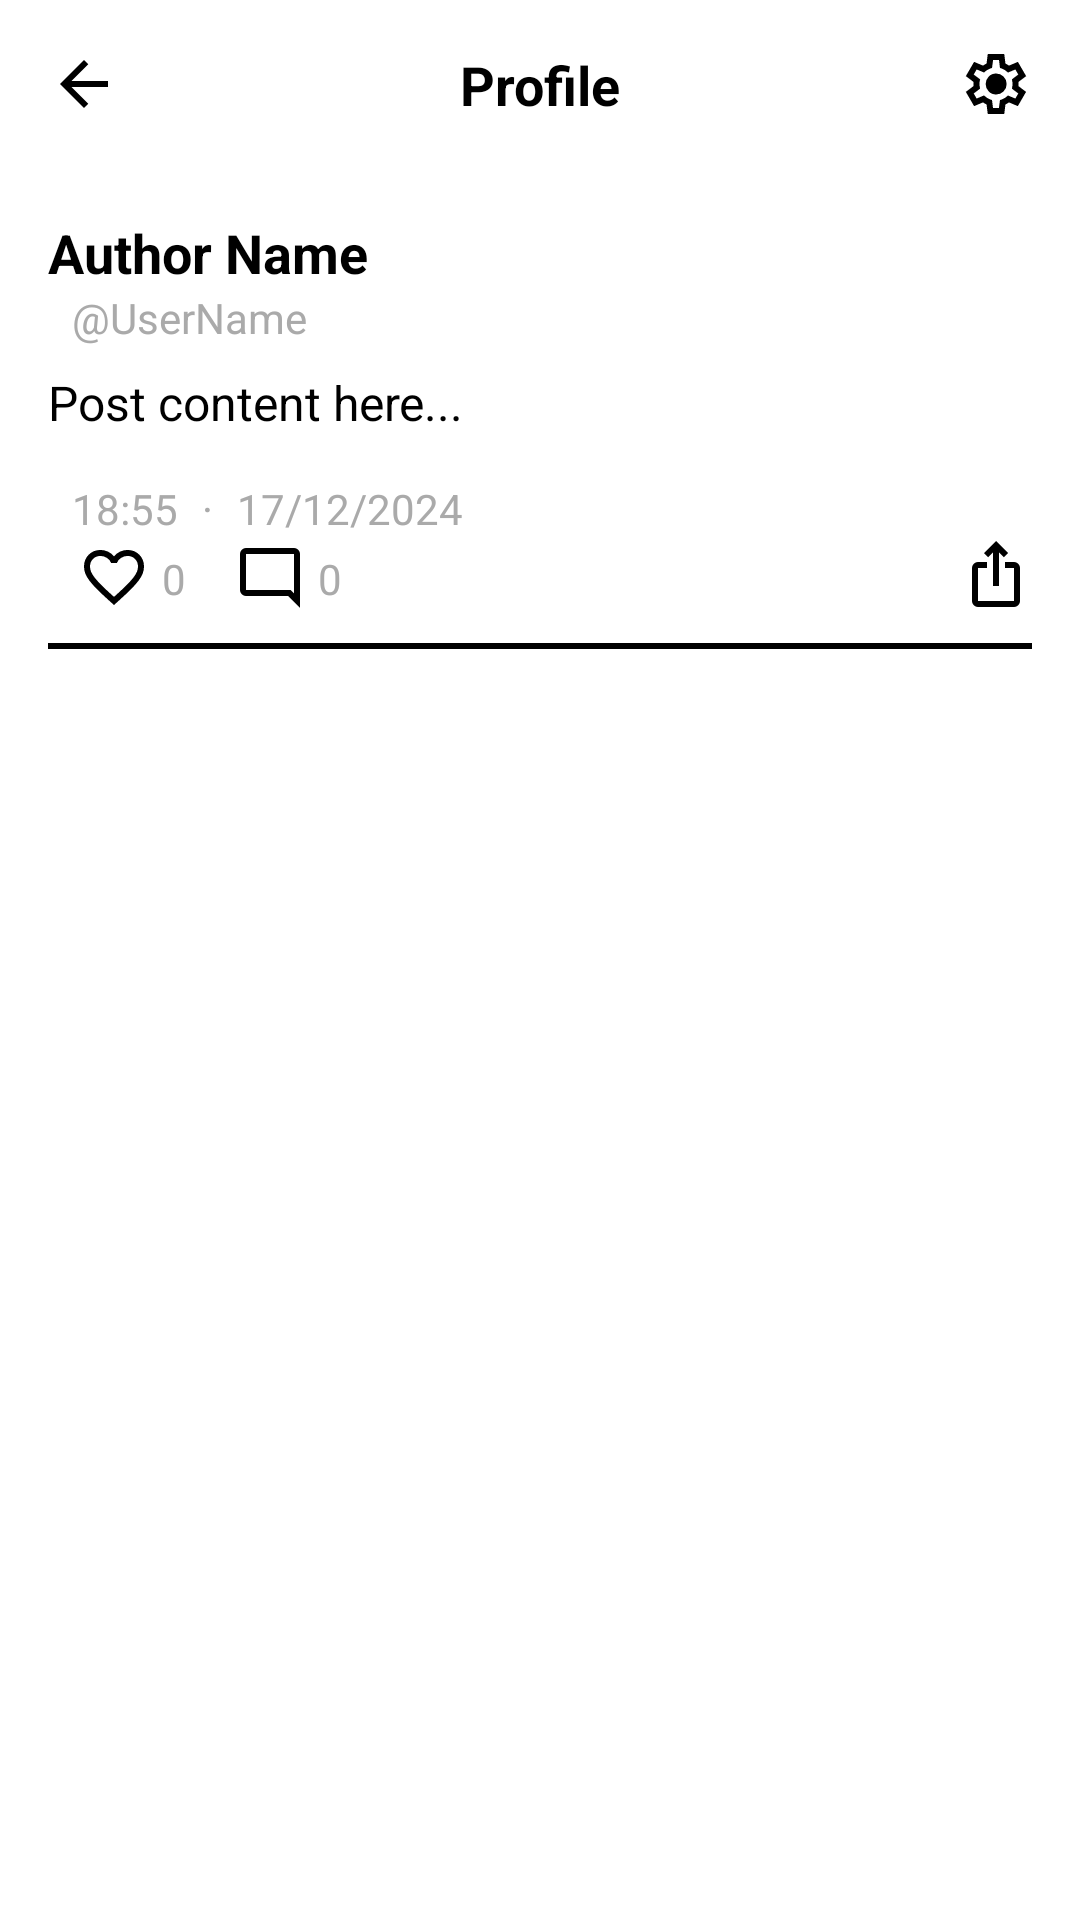

Icon click points for this 1080 × 1920 phone screenshot, format point (x, y):
arrow back: point (84, 84)
Bouton permettant de commenter un post: point (270, 578)
Bouton permettant de liker un post: point (114, 577)
Boutton permettant de partager un post: point (996, 574)
settings: point (996, 84)
